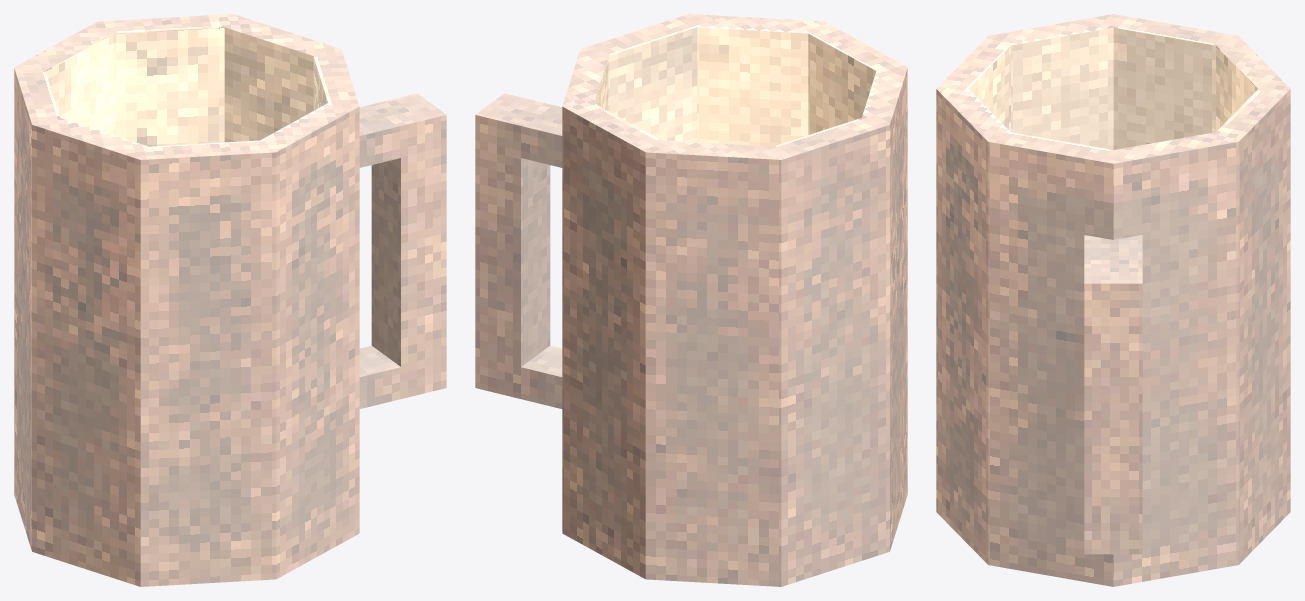
The model's file is mug.glb.
3 views of the same model, side by side, from view 1: azimuth 30°, elevation 25°; view 2: azimuth 150°, elevation 25°; view 3: azimuth 270°, elevation 25° (orthographic).
Parts seen in each view (by area): view 1: Mug; view 2: Mug; view 3: Mug.
Part boxes in pixels (x1=…): Mug: x1=14, y1=14, x2=446, y2=586; Mug: x1=475, y1=14, x2=907, y2=586; Mug: x1=936, y1=14, x2=1290, y2=586.
Bounding box in the file's own units: 1.35 × 1.38 × 1.05.
